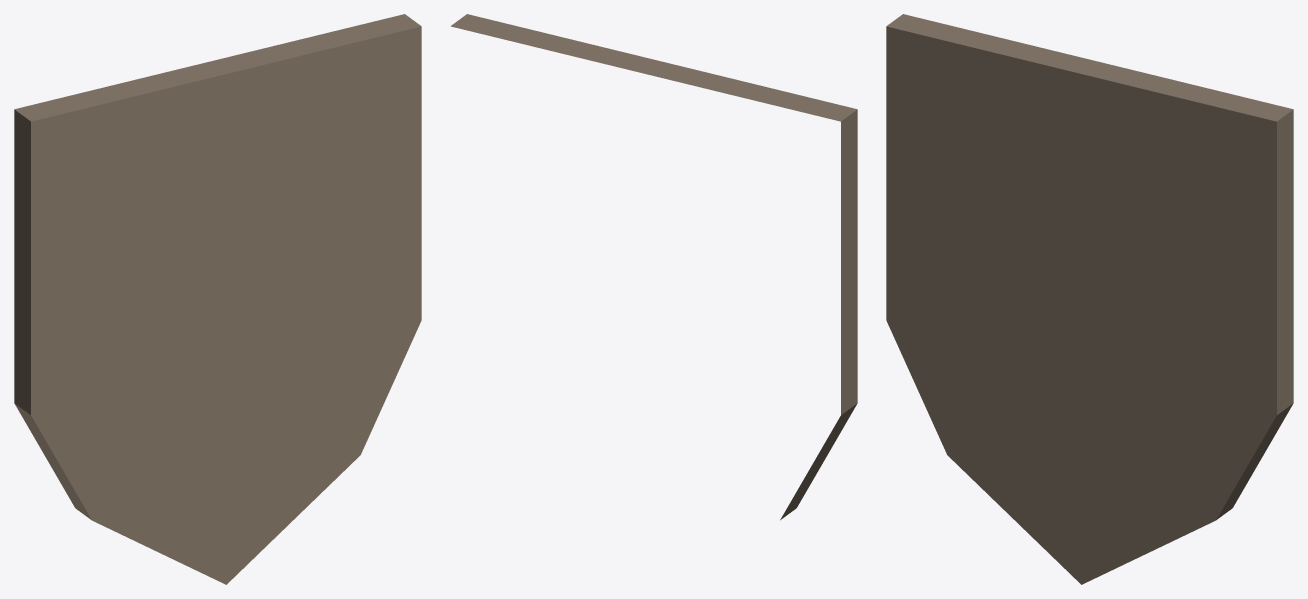
The model's file is sg_device_blades.glb.
3 renders of one model, left to right at view 1: azimuth 30°, elevation 25°; view 2: azimuth 150°, elevation 25°; view 3: azimuth 330°, elevation 25°, orthographic.
Parts seen in each view (by area): view 1: sg_device_blades_SG_Joinery; view 2: sg_device_blades_SG_Joinery; view 3: sg_device_blades_SG_Joinery.
Part boxes in pixels (bbox=[...]): sg_device_blades_SG_Joinery: bbox=[14, 14, 421, 584]; sg_device_blades_SG_Joinery: bbox=[450, 14, 857, 520]; sg_device_blades_SG_Joinery: bbox=[886, 14, 1293, 584].
Bounding box in the file's own units: 1.6 × 2 × 0.12.
